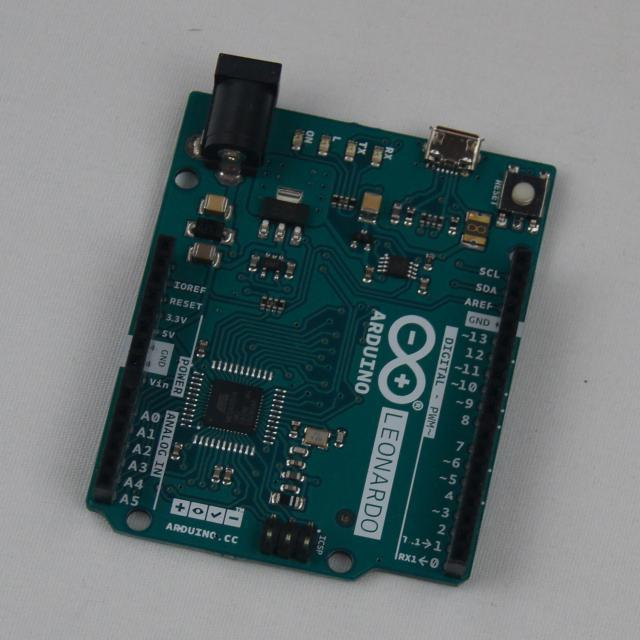Arduino-leonardo: (88, 55, 556, 583)
